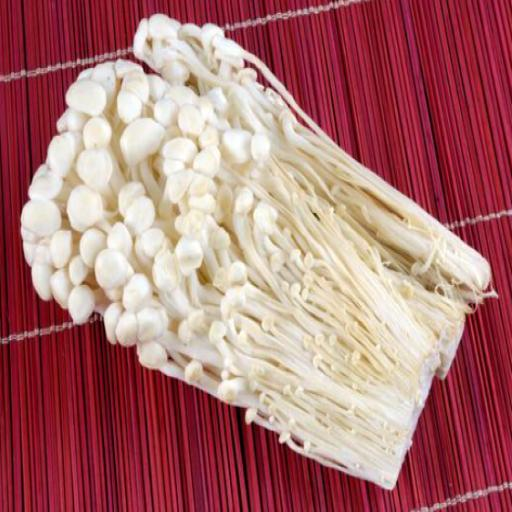Enoki Mushroom: (16, 12, 497, 497)
